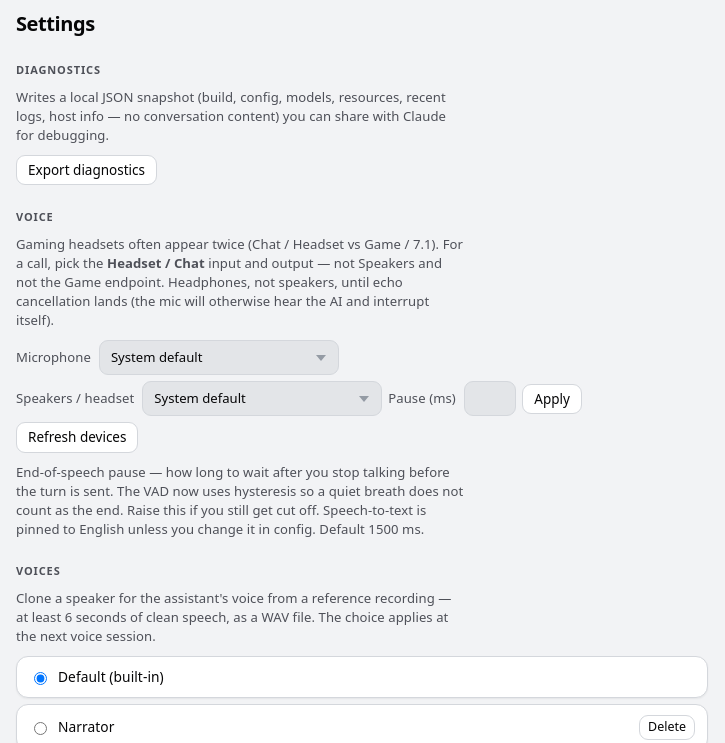
Test: Settings › shows the config and exports diagnostics
Click the button "Export diagnostics" at point(86, 170), box x1=16 y1=155 x2=157 y2=185
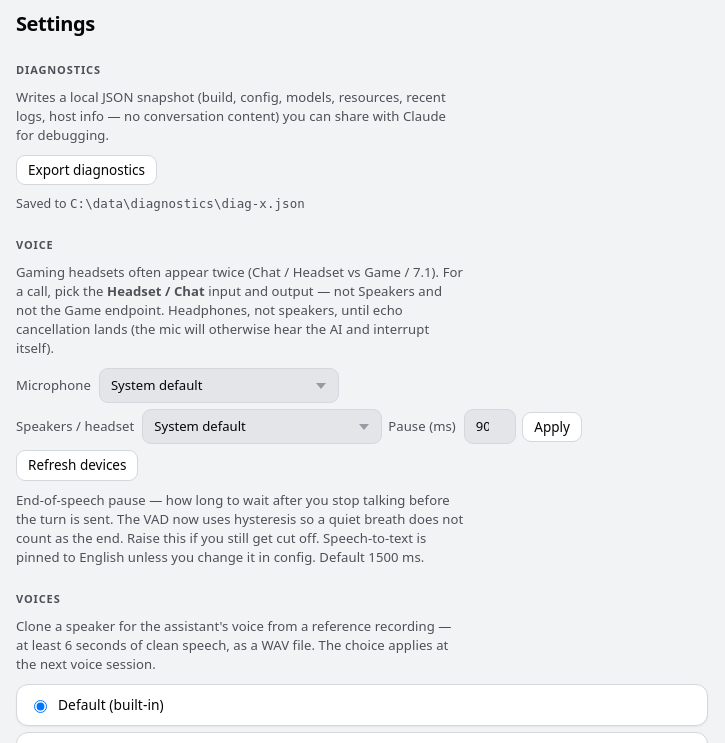
Check: the text "C:\\data\\diagnostics\\diag-x.json" is shown, box x1=70 y1=196 x2=305 y2=211
